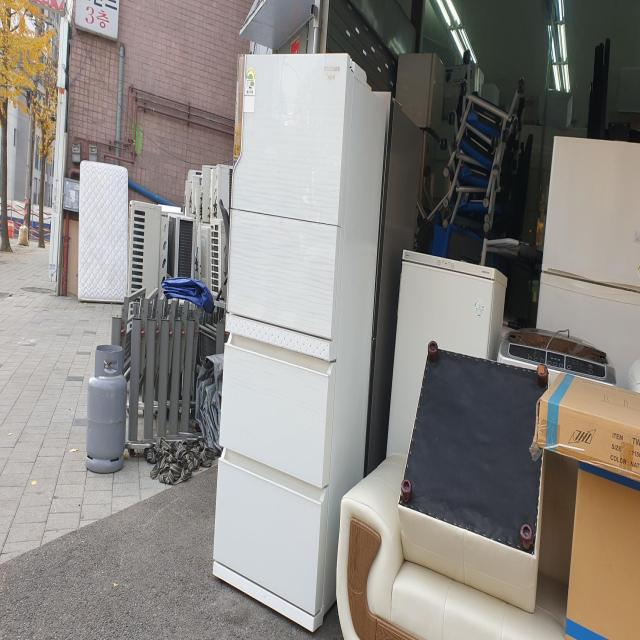refrigerator: (210, 47, 386, 640)
